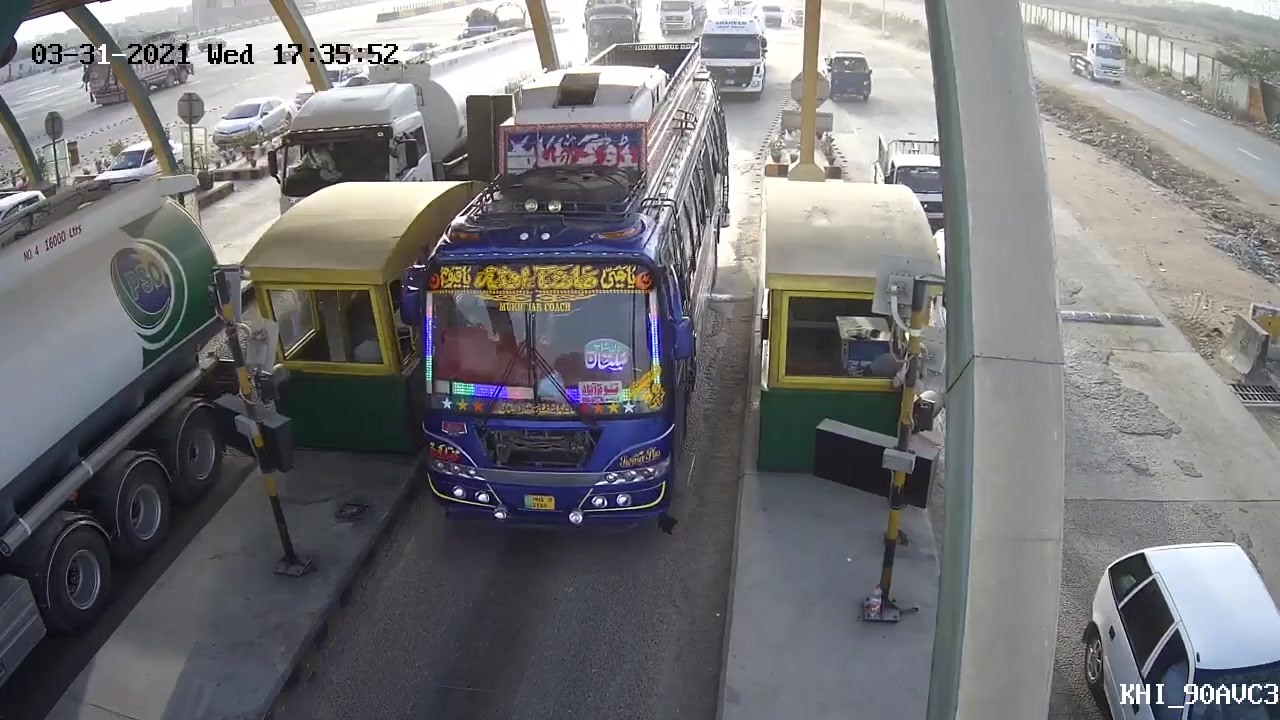F4: (386, 111, 712, 562)
